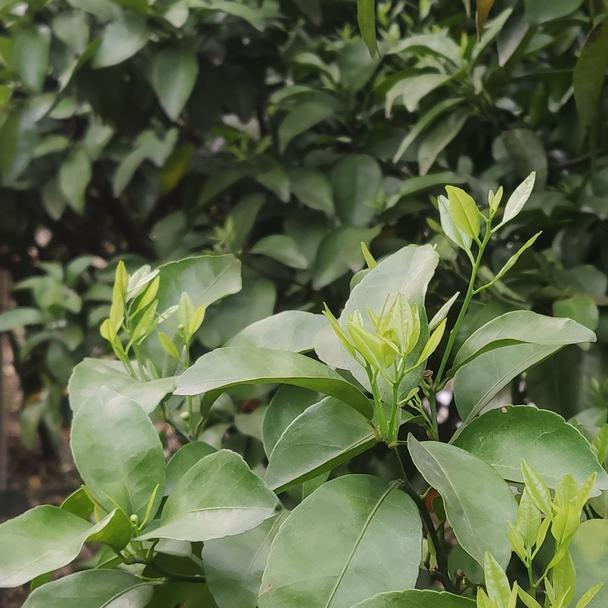shoot: (497, 472, 597, 607), (441, 181, 538, 300), (101, 255, 179, 378), (355, 298, 426, 415)
